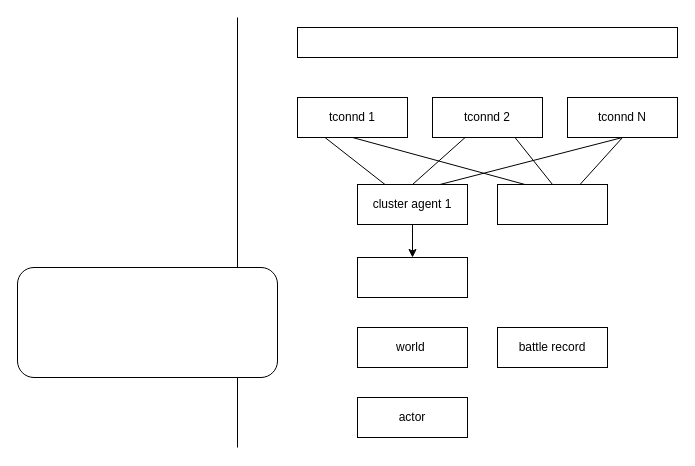
The diagram is 695 pixels wide and 466 high, and some of its shapes have lost their labels. Each missing label, with the centre of its shape:
"cluster agent M" goes at (x=552, y=204).
"session" goes at (x=412, y=277).
"tgw(tencent gateway)" goes at (x=487, y=42).
